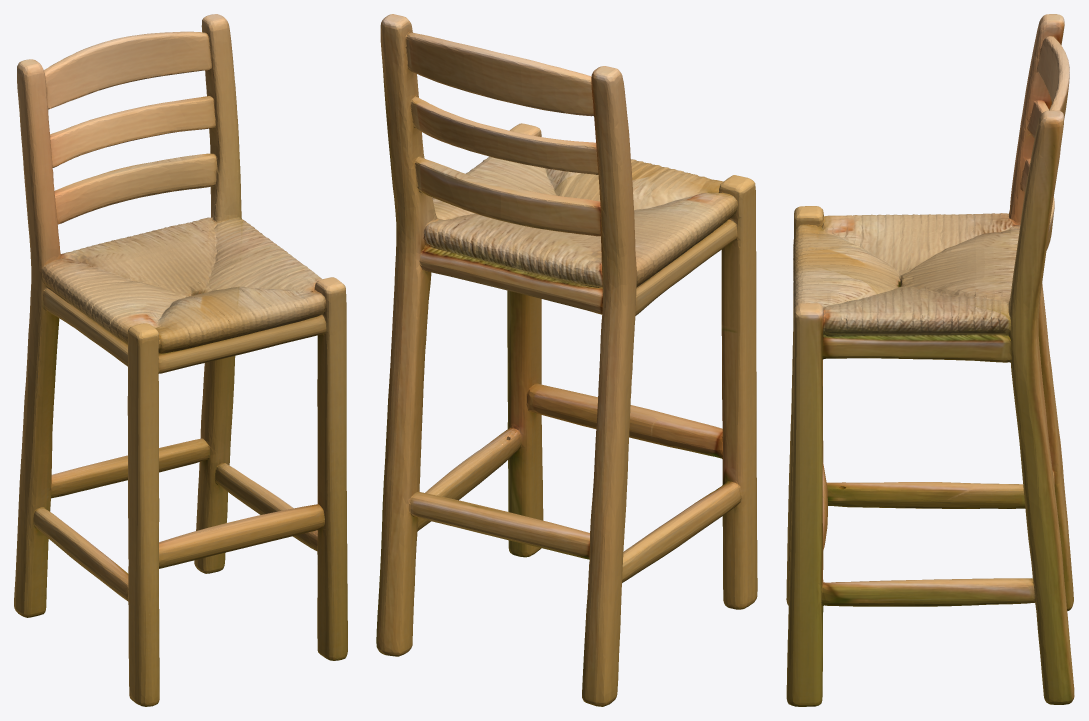
Rendered from bar_stool_2.glb.
3 renders of one model, left to right at view 1: azimuth 30°, elevation 25°; view 2: azimuth 150°, elevation 25°; view 3: azimuth 270°, elevation 25°, orthographic. The views are drawn at different scales.
Visible parts, largest first — view 1: geometry_0; view 2: geometry_0; view 3: geometry_0.
Boxes of the visible parts, left/top/right/bottom form: geometry_0: left=14, top=14, right=347, bottom=706; geometry_0: left=376, top=14, right=757, bottom=706; geometry_0: left=786, top=14, right=1074, bottom=706.
Bounding box in the file's own units: 0.3981 × 1 × 0.444.
Materials: 1 (1 with a texture image).
